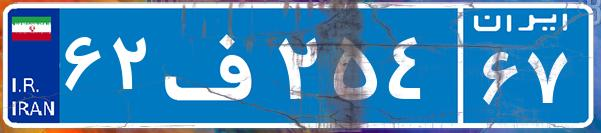2: (273, 28, 330, 110), (110, 28, 158, 105)
4: (385, 28, 445, 110)
5: (330, 28, 385, 110)
6: (57, 26, 110, 107), (475, 38, 525, 113)
7: (525, 38, 570, 115)
ف: (158, 15, 273, 115)
